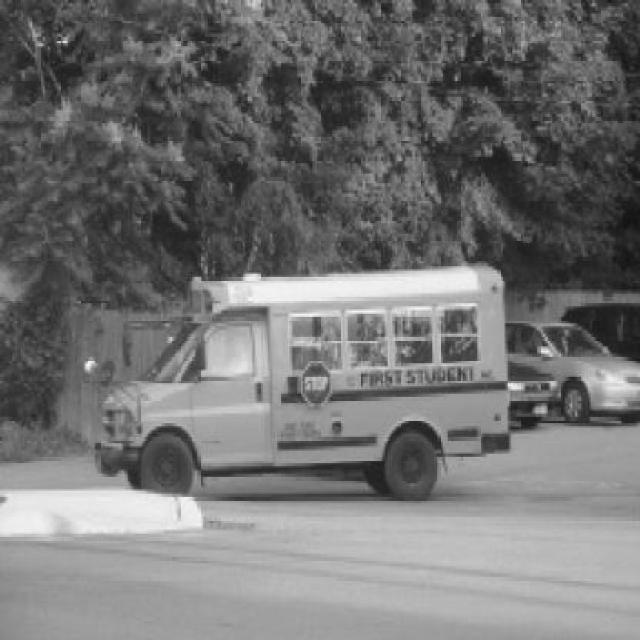Bus- Small: (94, 263, 511, 503)
